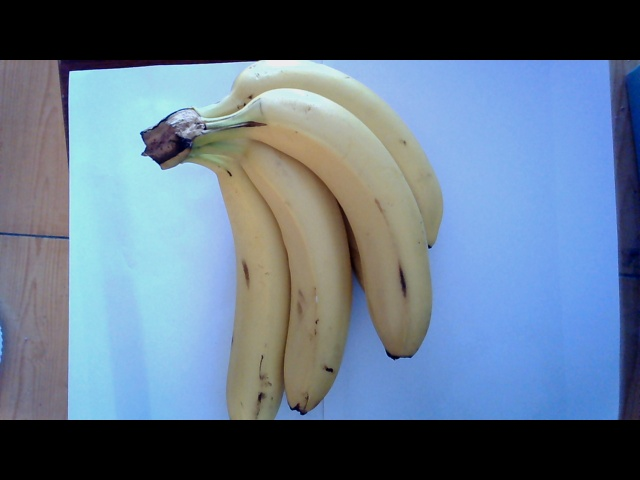banana: (154, 76, 459, 410)
